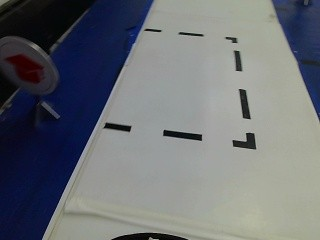school: (2, 39, 55, 104)
